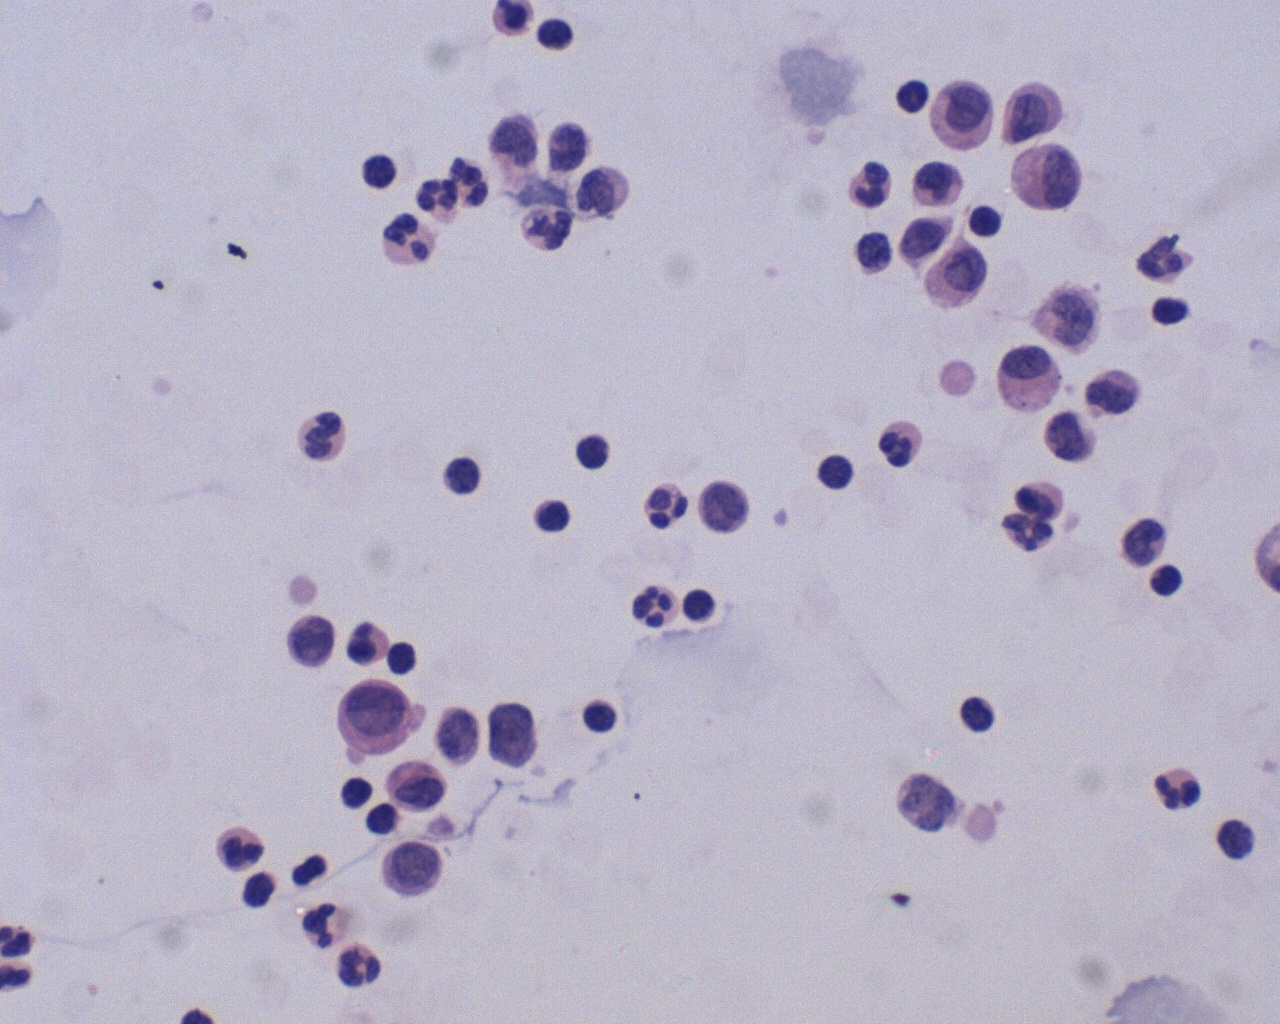ab: (333, 674, 424, 763), (921, 229, 995, 320), (991, 77, 1071, 148), (379, 837, 453, 905), (385, 748, 447, 812), (281, 607, 336, 672), (433, 704, 484, 770)
lymph: (574, 686, 624, 740), (814, 449, 860, 496), (572, 428, 616, 473), (532, 496, 576, 541), (1147, 562, 1186, 600)
meso: (994, 338, 1069, 416)
neutro: (833, 153, 895, 218), (379, 210, 441, 270), (296, 897, 358, 953), (294, 404, 350, 465), (624, 578, 685, 633), (872, 420, 932, 475), (213, 819, 269, 878), (1149, 762, 1205, 820), (639, 474, 691, 533), (415, 168, 465, 225), (332, 944, 393, 990)
